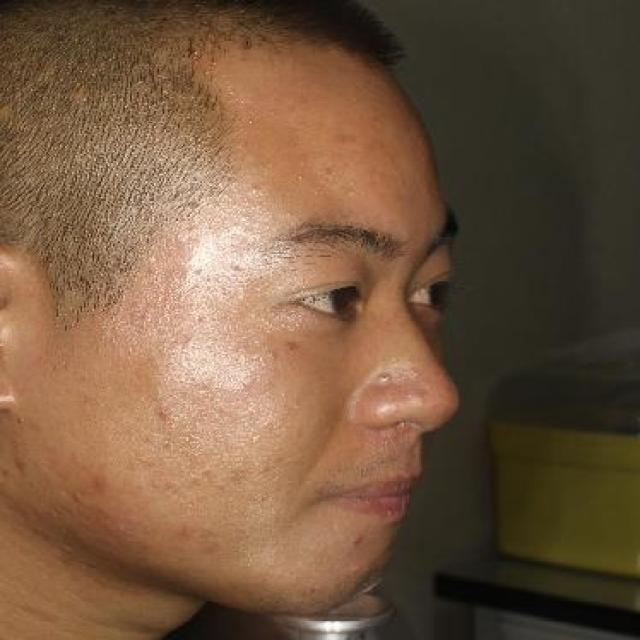dark spot: (322, 117, 368, 157), (79, 470, 116, 496), (223, 464, 248, 488), (200, 463, 216, 480)
papules: (373, 371, 394, 383)
whiteheads: (226, 258, 250, 274), (185, 332, 200, 357), (245, 184, 265, 198), (144, 268, 164, 282), (284, 340, 303, 354), (105, 334, 122, 349), (322, 166, 337, 179), (187, 198, 200, 212), (158, 406, 171, 420), (130, 306, 142, 319)
